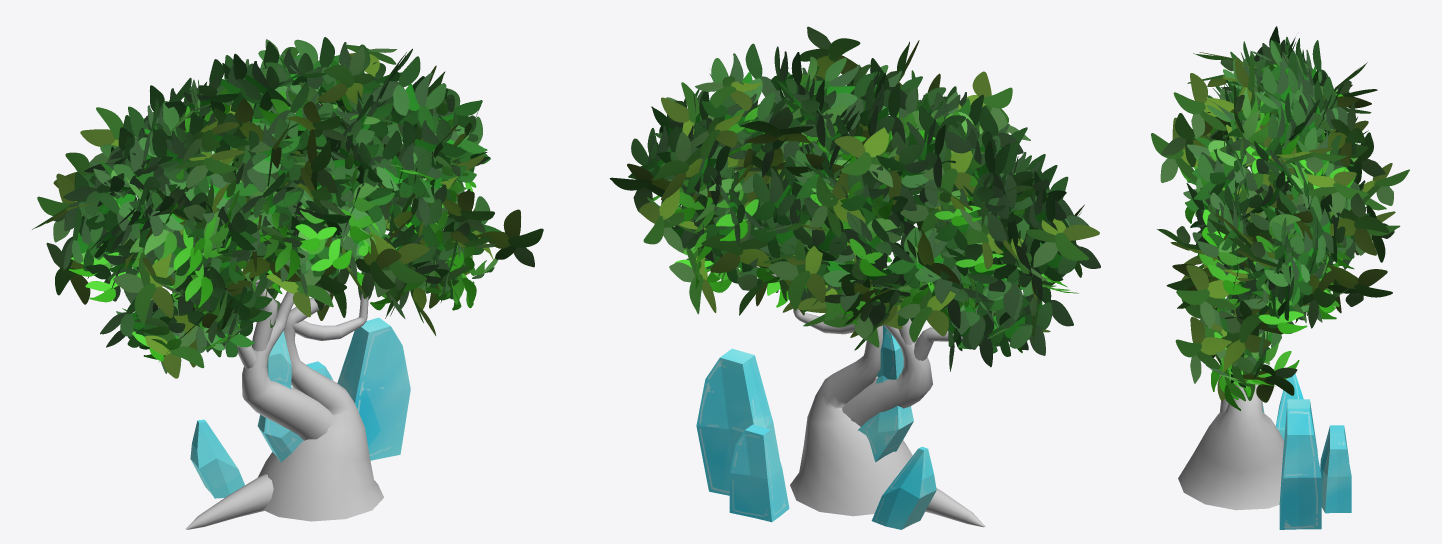
The model's file is pohon mystic1.fbx.
3 renders of one model, left to right at view 1: azimuth 30°, elevation 25°; view 2: azimuth 150°, elevation 25°; view 3: azimuth 270°, elevation 25°, orthographic. The views are drawn at different scales.
Visible parts, largest first — view 1: pohon baru1; view 2: pohon baru1; view 3: pohon baru1.
Part boxes in pixels (x1=…): pohon baru1: x1=32, y1=37, x2=543, y2=529; pohon baru1: x1=609, y1=26, x2=1100, y2=529; pohon baru1: x1=1151, y1=26, x2=1409, y2=529.
Bounding box in the file's own units: 771 × 720 × 438.
